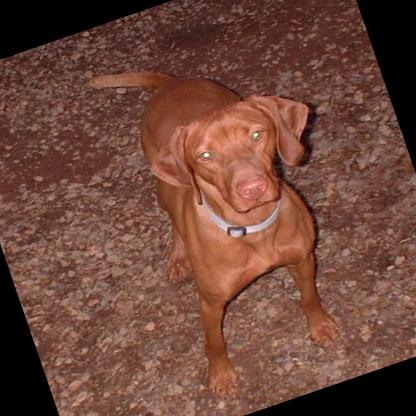vizsla: (75, 13, 388, 408)
